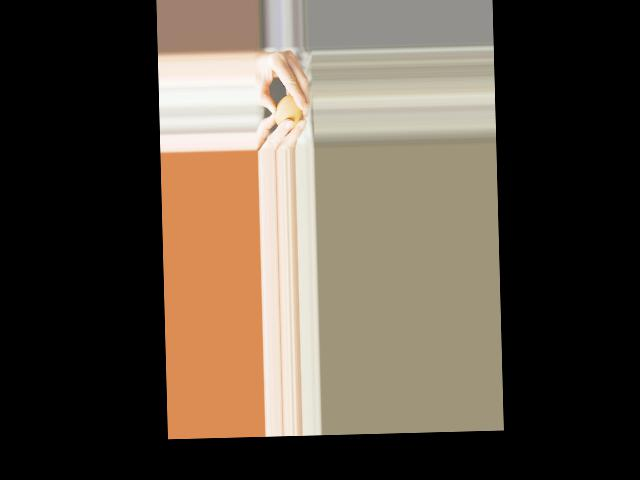egg: (274, 95, 303, 130)
